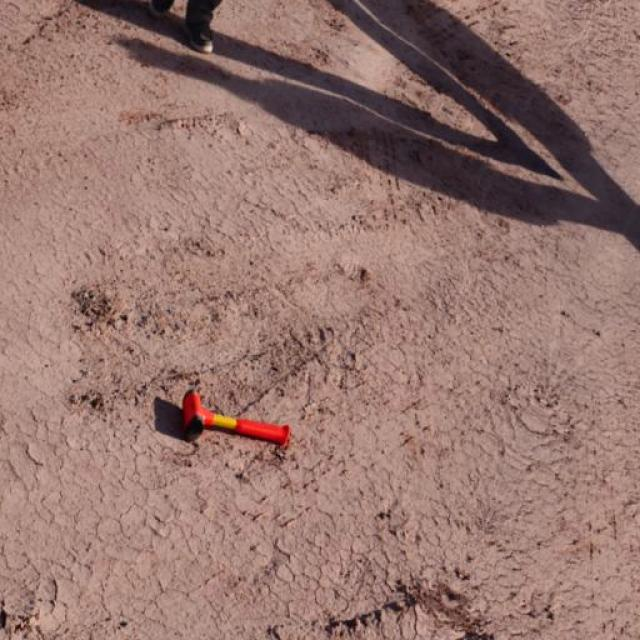mallet: (182, 388, 292, 448)
